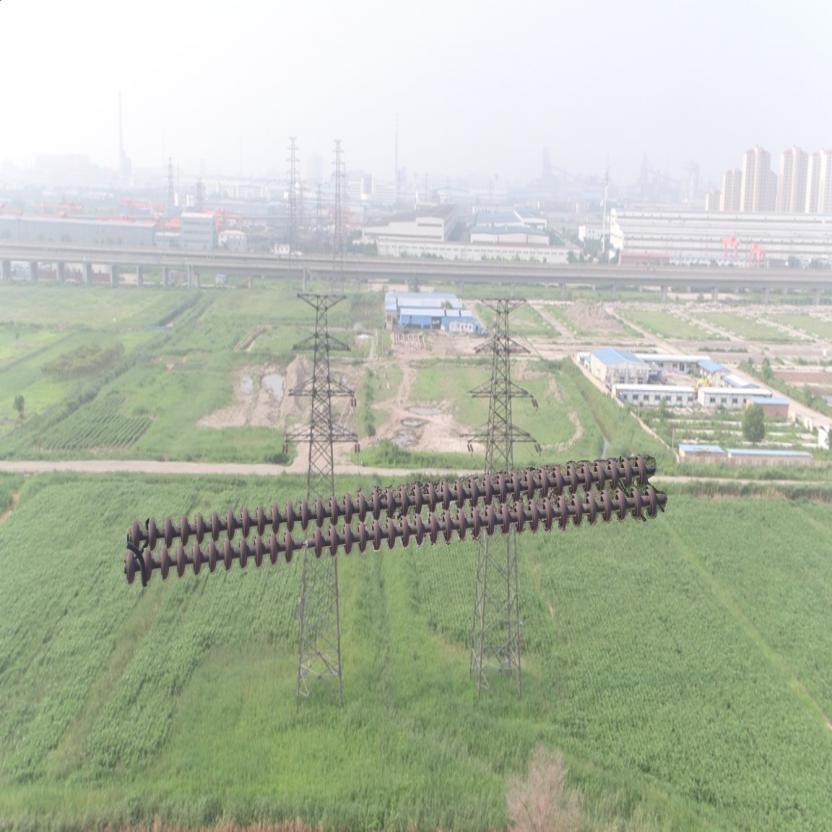defect: (278, 521, 326, 564)
